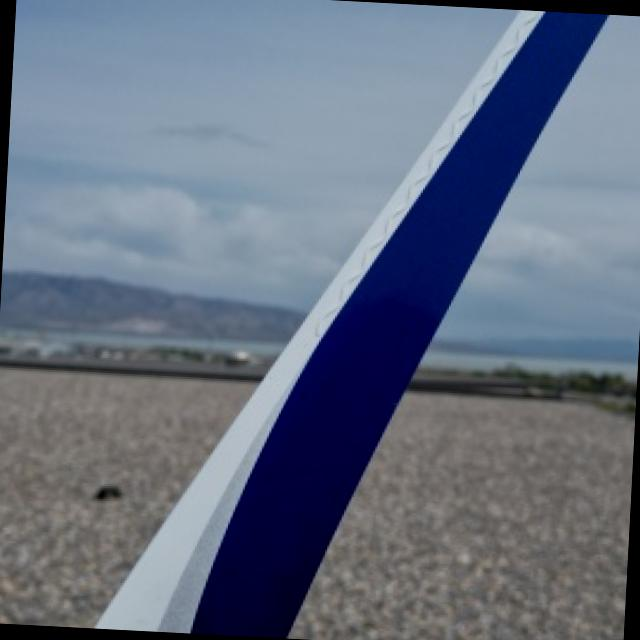healthy: (101, 10, 607, 633)
